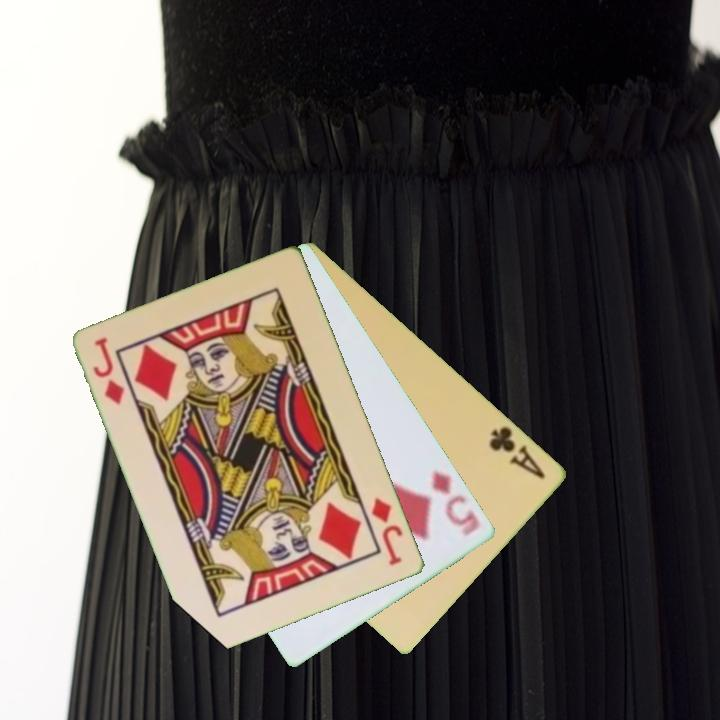5d: (429, 466, 483, 539)
Ac: (486, 423, 549, 482)
Jd: (368, 494, 407, 569), (90, 334, 128, 408)
